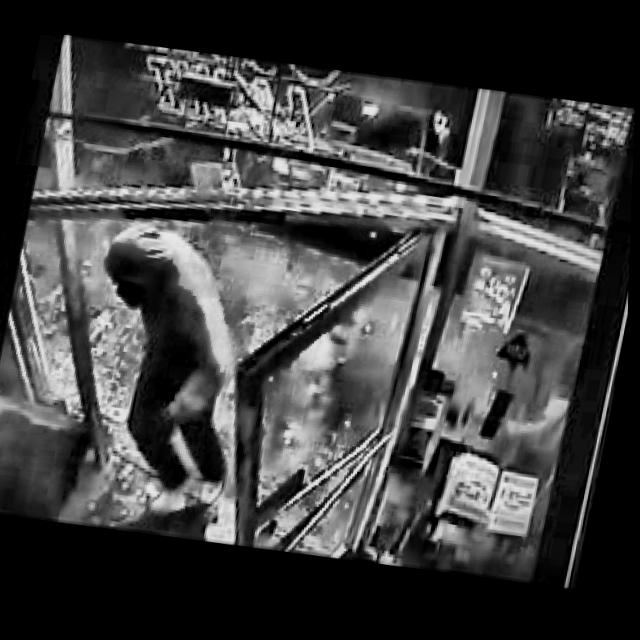burglary: (52, 208, 278, 546), (266, 62, 443, 211)
